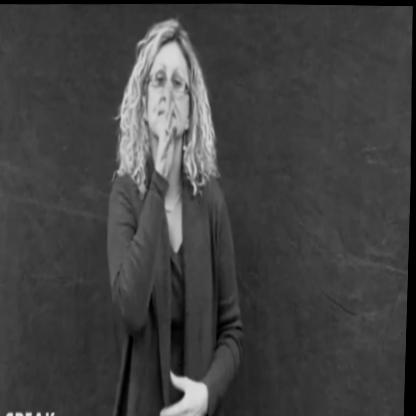Talk: (100, 10, 255, 416)
